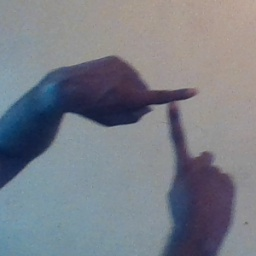T: (115, 56, 227, 178)
